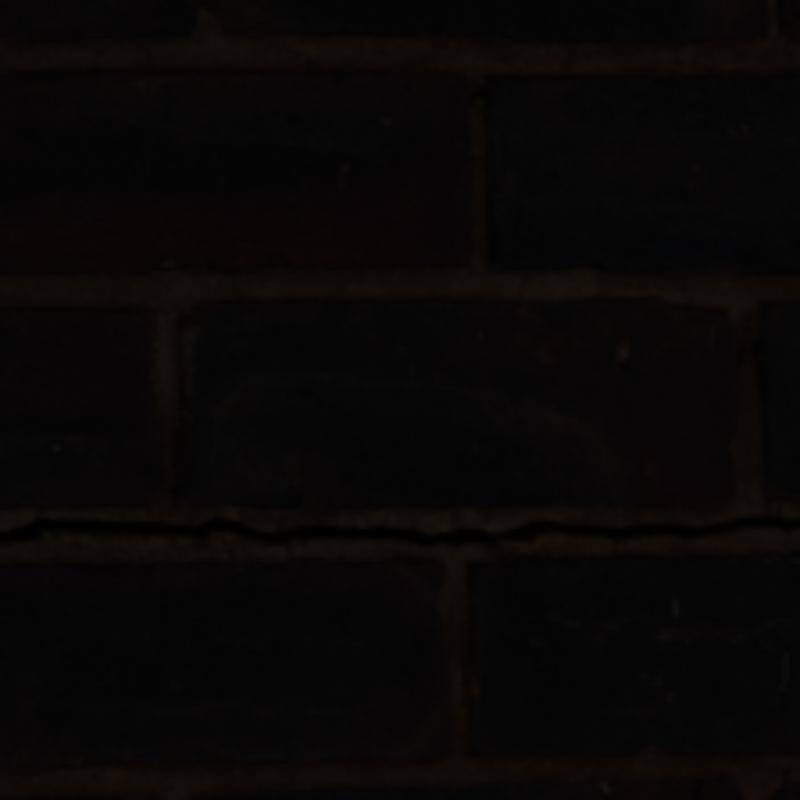crack: (0, 518, 668, 543)
